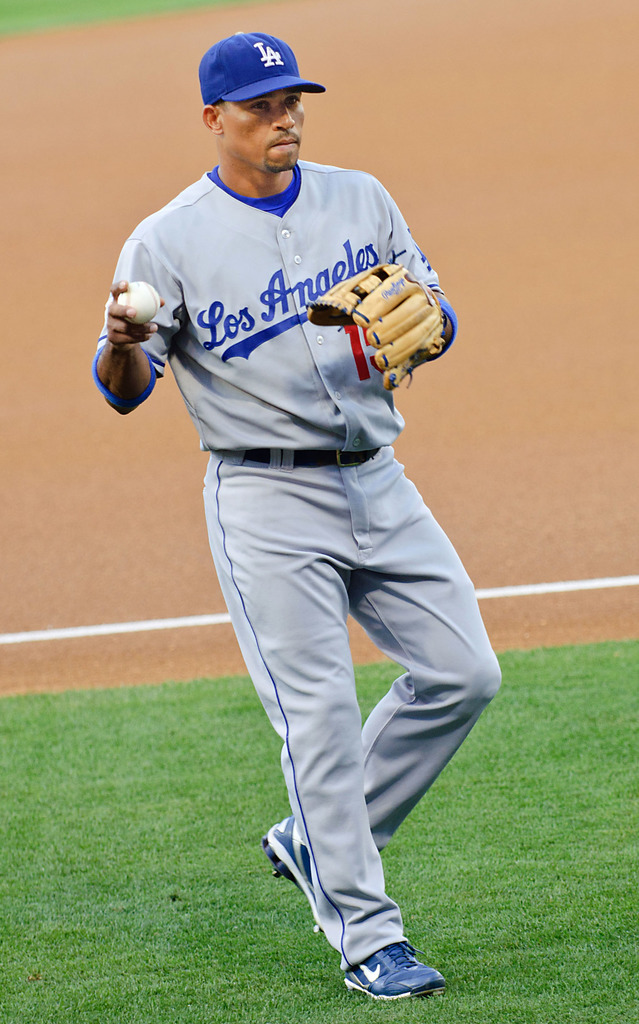Ball: (116, 275, 159, 316)
